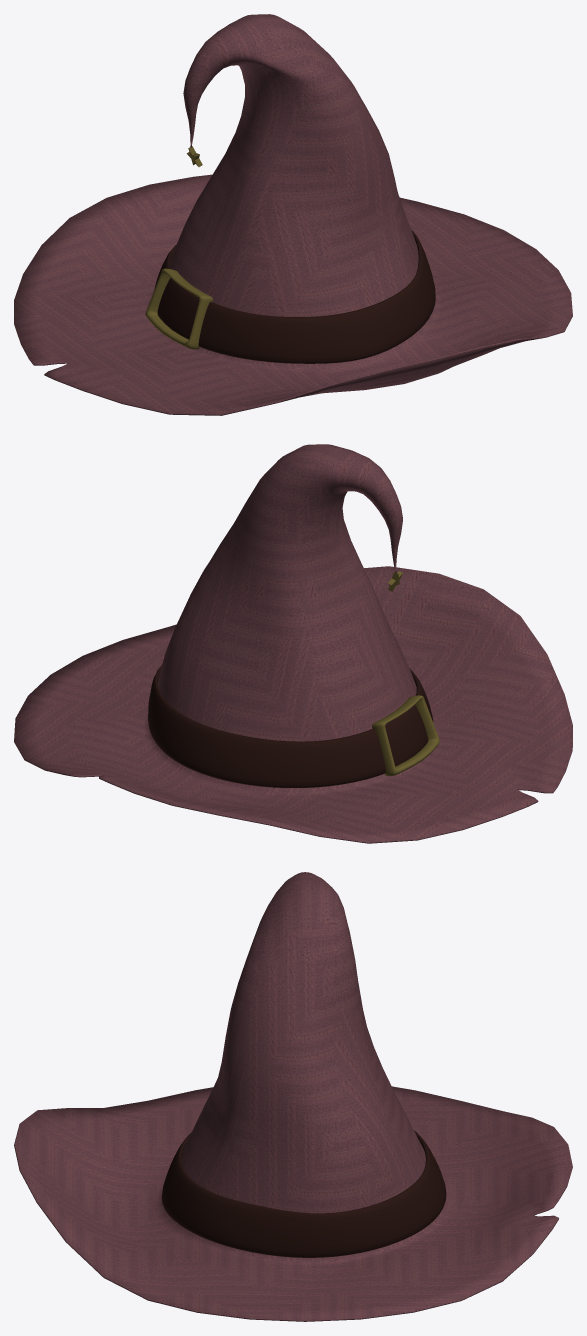
The model's file is WizardHat.glb.
3 renders of one model, top to bottom at view 1: azimuth 30°, elevation 25°; view 2: azimuth 150°, elevation 25°; view 3: azimuth 270°, elevation 25°, orthographic.
Visible parts, largest first — view 1: Wizard Hat, Leather strap, Buckle; view 2: Wizard Hat, Leather strap, Buckle; view 3: Wizard Hat, Leather strap.
Part boxes in pixels (x1,y1,x2,y2): Wizard Hat: (14, 14, 572, 415); Leather strap: (154, 230, 435, 363); Buckle: (145, 268, 212, 349); Wizard Hat: (14, 444, 572, 843); Leather strap: (148, 665, 433, 787); Buckle: (372, 695, 439, 776); Wizard Hat: (14, 872, 572, 1321); Leather strap: (161, 1130, 446, 1257).
Bounding box in the file's own units: 4 × 2.34 × 3.86.
Materials: 3 (1 with a texture image).
